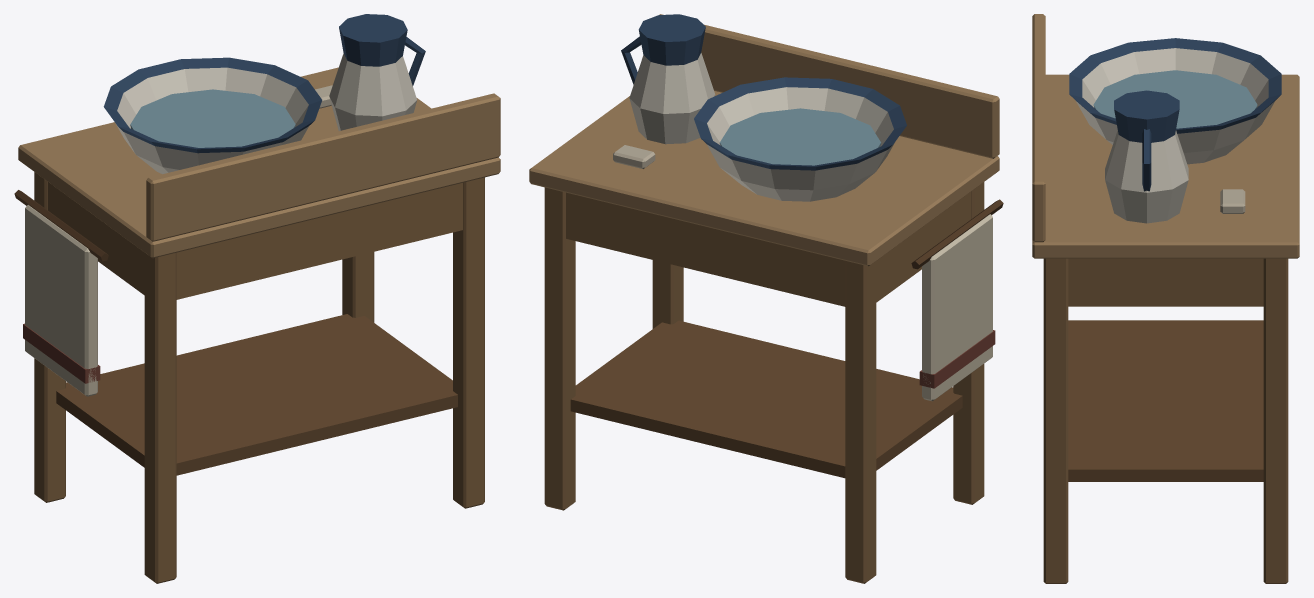
The model's file is prop_basin.glb.
3 renders of one model, left to right at view 1: azimuth 30°, elevation 25°; view 2: azimuth 150°, elevation 25°; view 3: azimuth 270°, elevation 25°, orthographic. The views are drawn at different scales.
Visible parts, largest first — view 1: prop_basin; view 2: prop_basin; view 3: prop_basin.
Part boxes in pixels (x1=…): prop_basin: x1=14, y1=14, x2=500, y2=583; prop_basin: x1=529, y1=14, x2=1003, y2=583; prop_basin: x1=1032, y1=14, x2=1299, y2=583.
Bounding box in the file's own units: 0.913 × 1.04 × 0.56.
